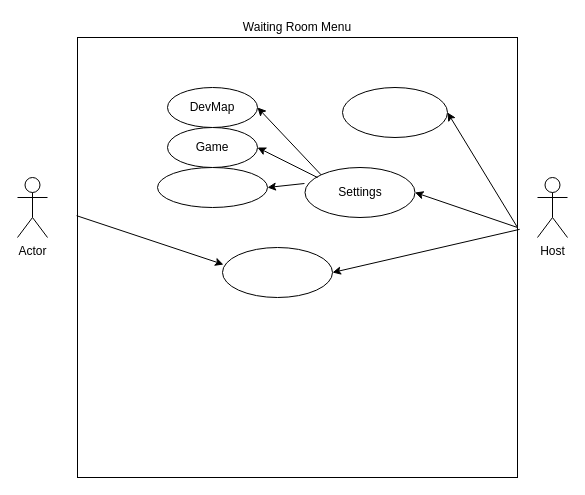
The diagram is 585 pixels wide and 495 high, and some of its shapes have lost their labels. The shapes that lost their labels are listed below. From the top down, each one's centre as x and y in pixels, then its label:
At pixel 395 112: "Start Game".
At pixel 212 187: "Return to Room".
At pixel 277 272: "Leave Room".
